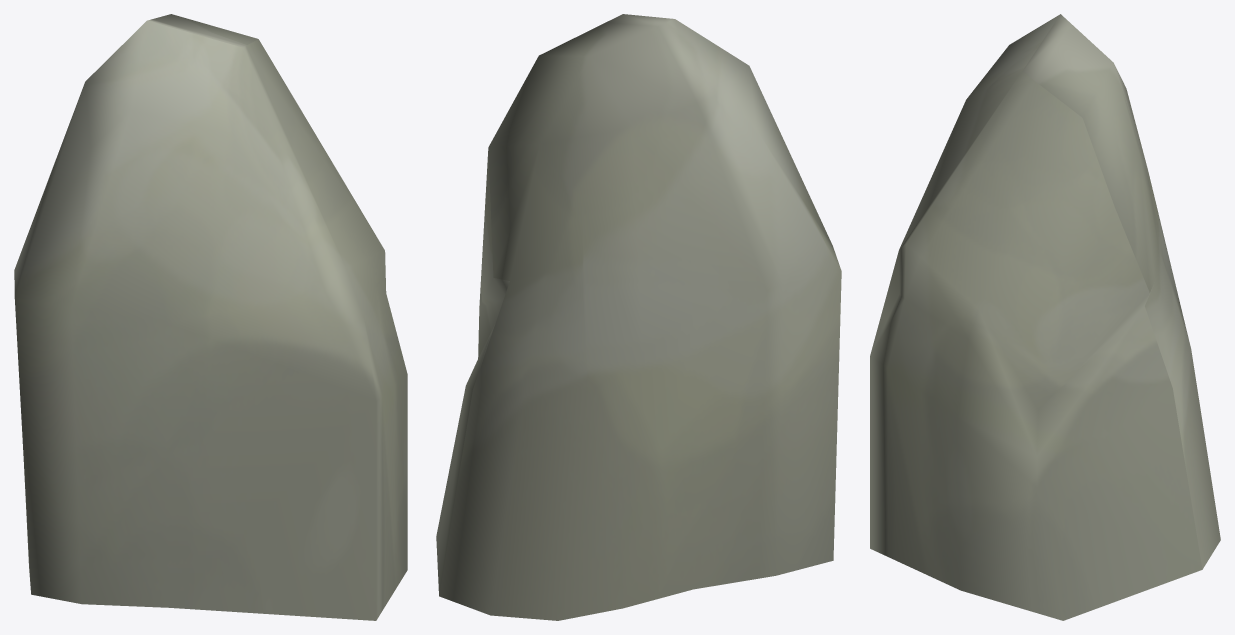
The model's file is stone2.fbx.
3 views of the same model, side by side, from view 1: azimuth 30°, elevation 25°; view 2: azimuth 150°, elevation 25°; view 3: azimuth 270°, elevation 25° (orthographic). The views are drawn at different scales.
Parts seen in each view (by area): view 1: pCube2; view 2: pCube2; view 3: pCube2.
Boxes of the visible parts, box(x1,y1,x2,y2) form: pCube2: box(14, 14, 407, 620); pCube2: box(436, 14, 841, 620); pCube2: box(870, 14, 1220, 620).
Size of the model in its own units: 2.17 by 3.08 by 1.94.
